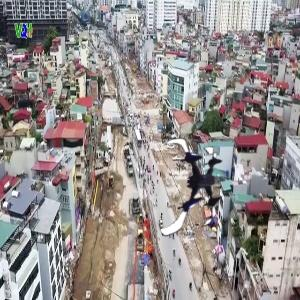drone: (144, 134, 241, 231)
